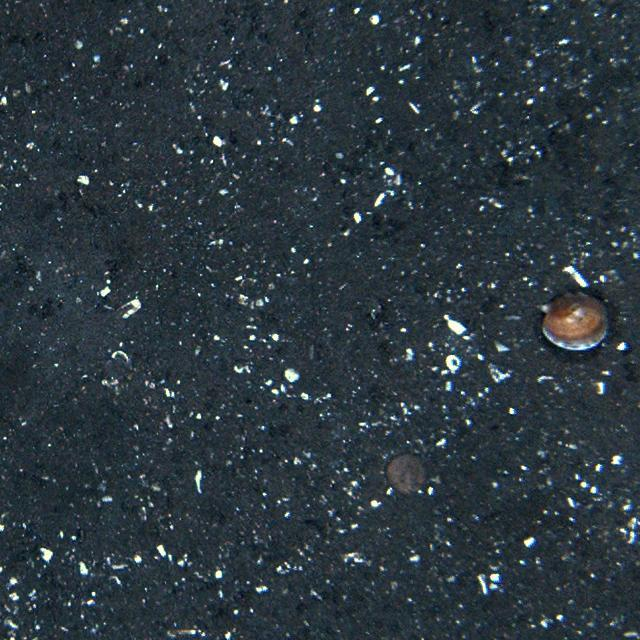scallop: (540, 284, 610, 356)
